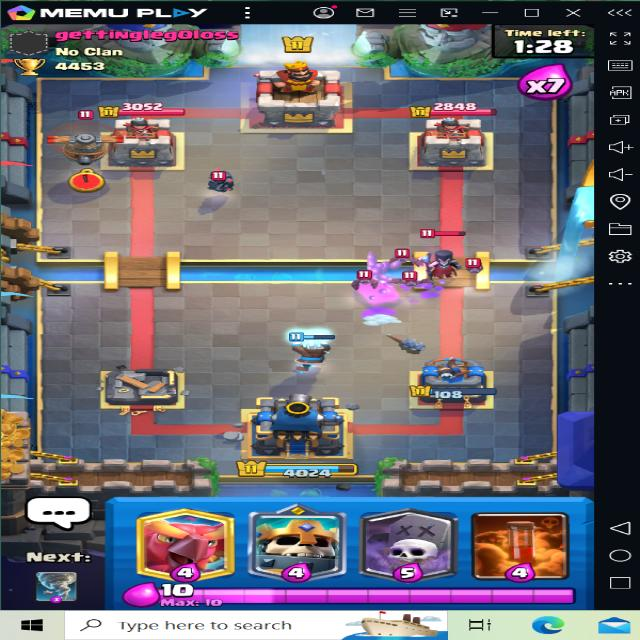Bat: (460, 254, 498, 278), (400, 266, 430, 290), (346, 269, 380, 289), (390, 243, 417, 264)
Flyingmachine: (45, 110, 123, 168)
Minipekka: (196, 160, 248, 193)
Nightwitch: (419, 230, 465, 280)
